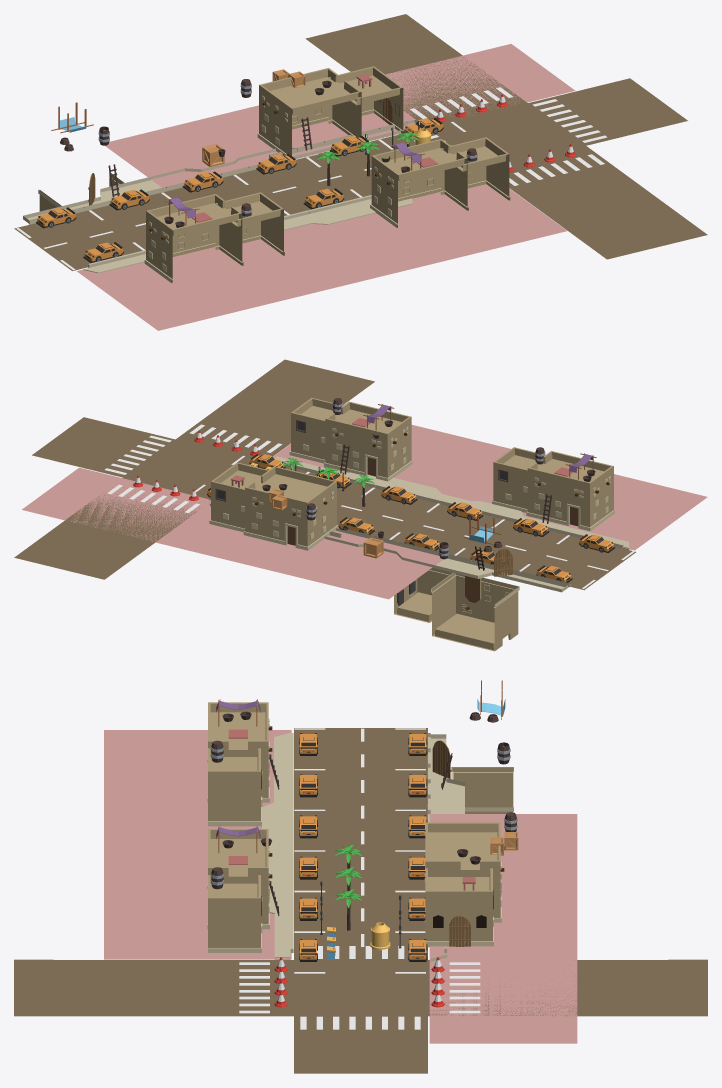
Rendered from kailuochangjing.FBX.
The picture shows the model from 3 angles, top to bottom: view 1: azimuth 30°, elevation 25°; view 2: azimuth 150°, elevation 25°; view 3: azimuth 270°, elevation 25°; orthographic projection. The views are drawn at different scales.
Visible parts, largest first — view 1: Plane007, Plane004, Plane006, Box061, Box041, Box054, Line004, Line003, Car_004, Car_006, Car_003, Car_012 (+2 smaller); view 2: Plane007, Plane006, Plane004, Box061, Box041, Box054, Box063, Line003, Line004, Cylinder009; view 3: Plane007, Plane004, Plane006, Box061, Box054, Box041, Line003, Box063, Line004.
Boxes of the visible parts, x1,y1,x2,y2 form: Plane007: [14, 14, 707, 270]; Plane004: [77, 184, 566, 330]; Plane006: [105, 44, 575, 187]; Box061: [257, 66, 404, 155]; Box041: [370, 137, 510, 227]; Box054: [144, 192, 284, 283]; Line004: [23, 120, 417, 222]; Line003: [83, 198, 412, 273]; Car_004: [109, 189, 149, 210]; Car_006: [256, 153, 296, 174]; Car_003: [36, 207, 76, 228]; Car_012: [83, 242, 123, 262]; Plane007: [14, 359, 635, 590]; Plane006: [22, 467, 442, 599]; Plane004: [273, 425, 707, 550]; Box061: [209, 462, 338, 550]; Box041: [289, 397, 412, 481]; Box054: [492, 447, 614, 531]; Box063: [394, 568, 519, 651]; Line003: [274, 456, 629, 549]; Line004: [209, 497, 567, 592]; Cylinder009: [494, 548, 512, 576]; Plane007: [14, 728, 707, 1073]; Plane004: [104, 730, 291, 959]; Plane006: [429, 814, 577, 1043]; Box061: [424, 822, 504, 947]; Box054: [207, 702, 272, 826]; Box041: [207, 829, 272, 952]; Line003: [262, 732, 290, 959]; Box063: [451, 767, 513, 813]; Line004: [430, 734, 464, 961].
Size of the model in its own units: 8960 by 2043 by 7604.
Materials: 2 (2 with a texture image).
